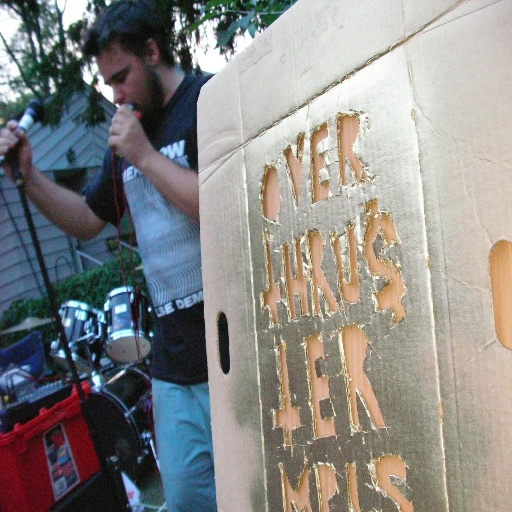hand: (108, 104, 152, 171), (0, 115, 35, 186)
